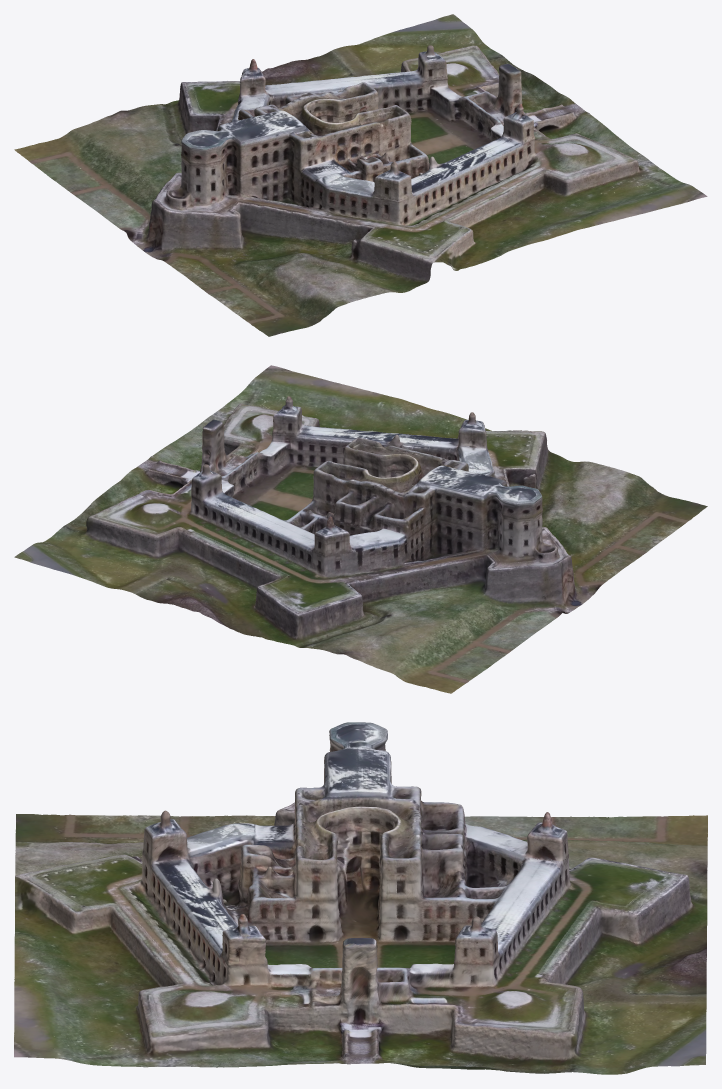
File: sf-krzyztopor-palace-poland-drone-3d-scan-d5d6c6.glb
3 renders of one model, top to bottom at view 1: azimuth 30°, elevation 25°; view 2: azimuth 150°, elevation 25°; view 3: azimuth 270°, elevation 25°, orthographic. The views are drawn at different scales.
Parts seen in each view (by area): view 1: Model_material0_0; view 2: Model_material0_0; view 3: Model_material0_0.
Boxes of the visible parts, box(x1,y1,x2,y2) form: Model_material0_0: box(14, 14, 707, 336); Model_material0_0: box(14, 365, 707, 693); Model_material0_0: box(14, 722, 707, 1074).
Bounding box in the file's own units: 14.66 × 3.19 × 14.82.
1 material, 1 textured.
